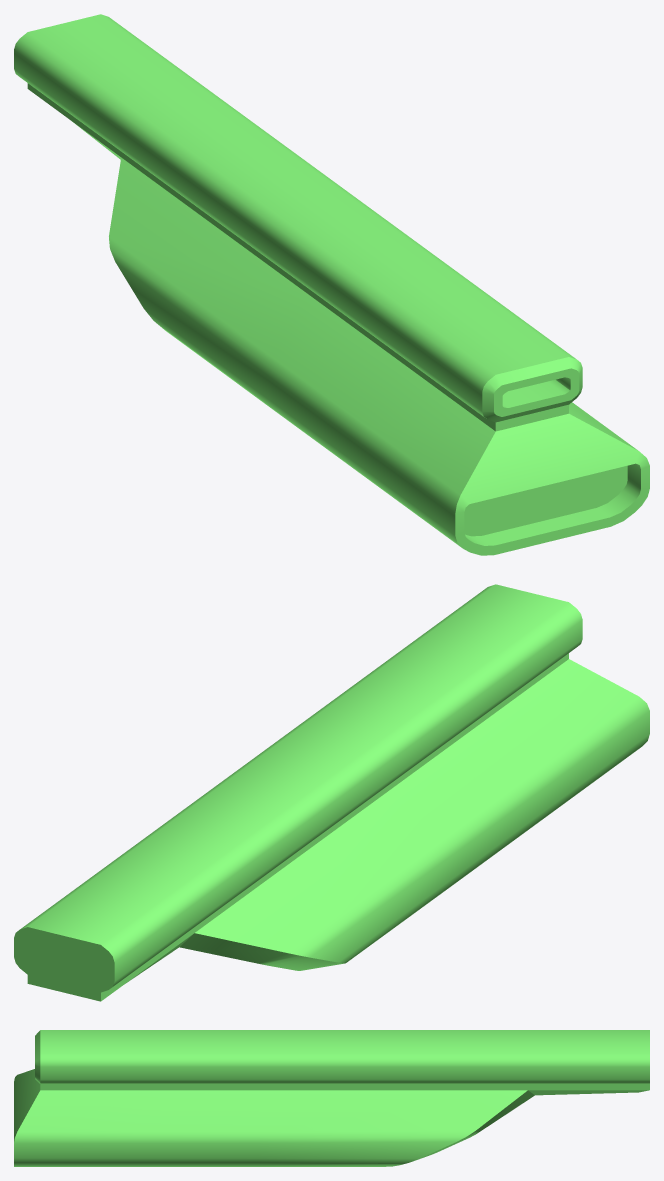
Rendered from part_accessory_01.fbx.
3 views of the same model, one above another, from view 1: azimuth 30°, elevation 25°; view 2: azimuth 150°, elevation 25°; view 3: azimuth 270°, elevation 25° (orthographic). The views are drawn at different scales.
Visible parts, largest first — view 1: part_accessory_01; view 2: part_accessory_01; view 3: part_accessory_01.
Boxes of the visible parts, x1,y1,x2,y2 form: part_accessory_01: [14, 14, 649, 555]; part_accessory_01: [14, 584, 649, 1001]; part_accessory_01: [14, 1030, 649, 1166].
Size of the model in its own units: 10.07 by 7.92 by 43.76.
